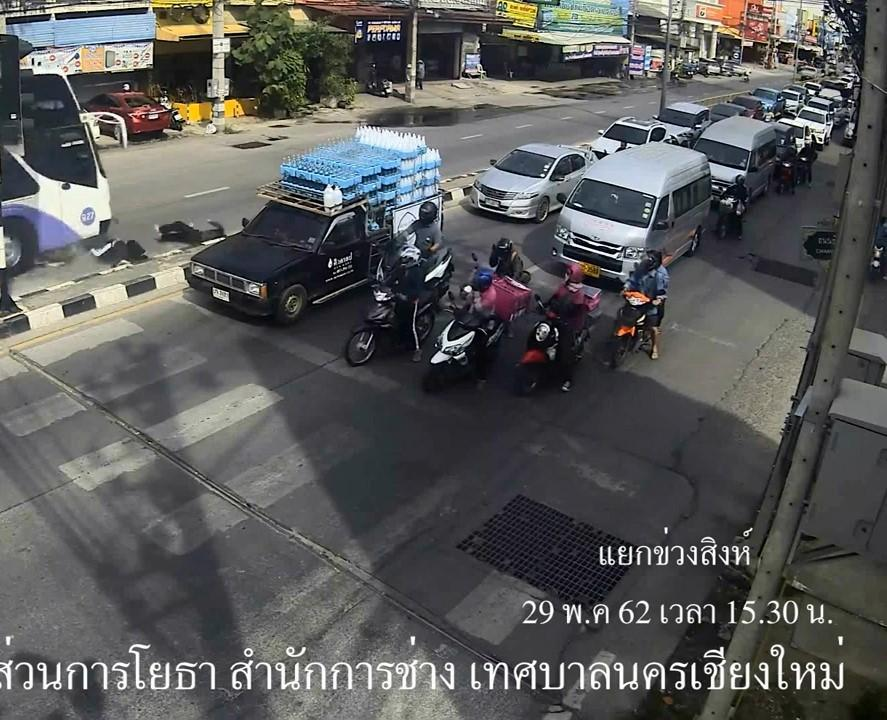accident: (153, 213, 235, 249)
